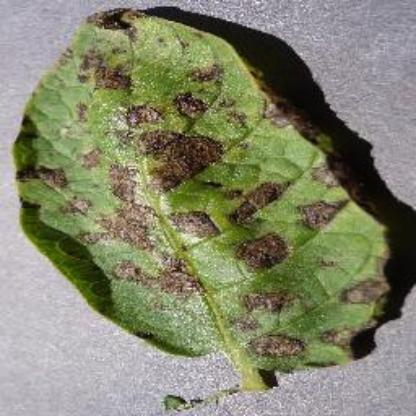Early-Blight: (15, 6, 400, 408)
